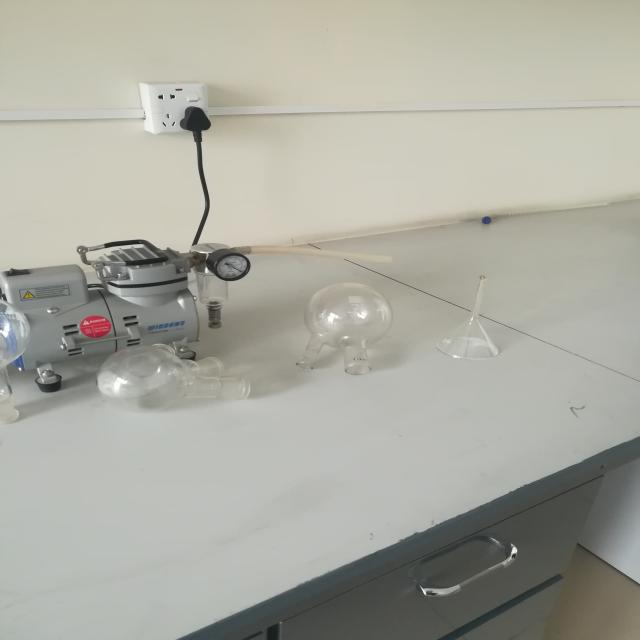Funnel: (420, 260, 533, 378)
Round_Bottom_Flask_Borosilicate_Glass_2_Neck: (293, 271, 399, 402)
Round_Bottom_Flask_Borosilicate_Glass_3_Neck: (86, 310, 270, 425)
